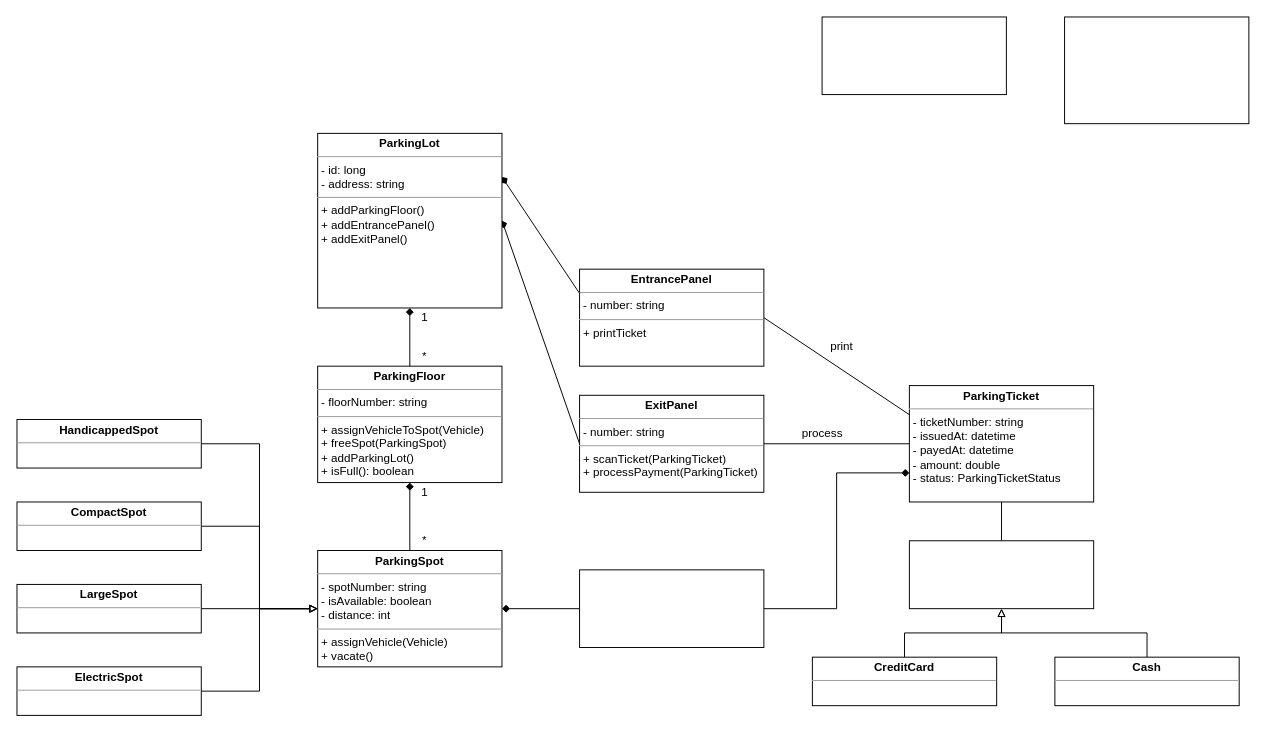
The diagram is 1266 pixels wide and 732 high, and some of its shapes have lost their labels. The box of each missing label's shape, as (x1, y1, x2, y2) in pixels:
<<enumeration>> ParkingTicketStatus - Active - Paid: (821, 16, 1006, 95)
<<enumeration>> VehicleType - Handicapped - Large - Medium - Electric: (1064, 16, 1249, 124)
Payment - creationDate: datetime - amount: double: (908, 540, 1094, 609)
Vehicle - licensePlate: string - height: double - type: VehicleType: (579, 569, 764, 647)
